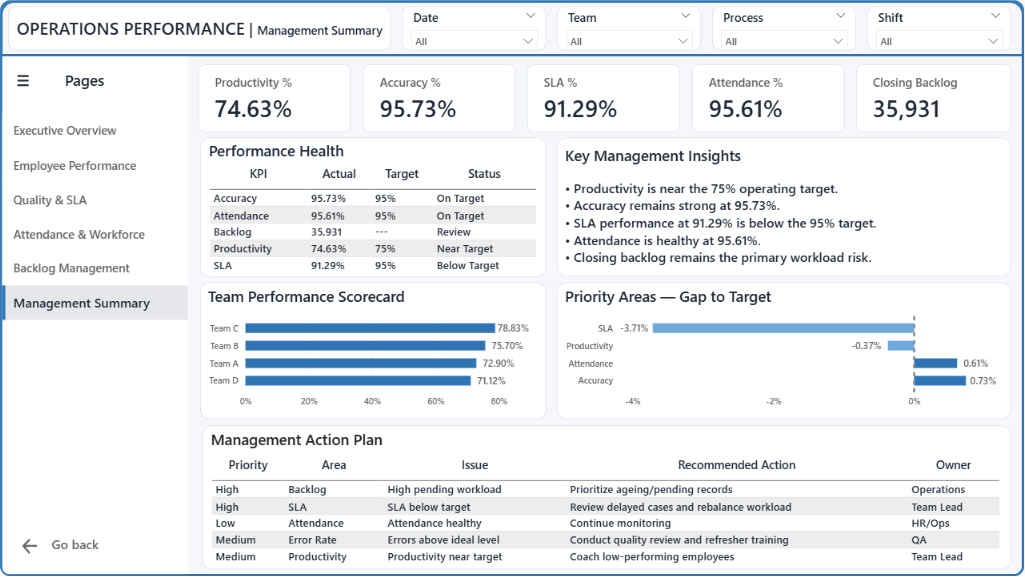

Layout of this report page (visuals, bound fields, positions):
{"tool":"powerbi","page":{"name":"Management Summary","canvas":[1280,720],"ordinal":5},"visuals":[{"type":"shape","box":[0,0,1280,720],"z":0},{"type":"shape","box":[0,0,1280,70],"z":1000},{"type":"textbox","box":[10,7.5,478.8,55],"z":2000},{"type":"cardVisual","fields":{"Data":["Measure.Closing Backlog"]},"box":[1070,80,193.8,85],"z":3000},{"type":"shape","box":[2,70,232,647.5],"z":4000},{"type":"cardVisual","fields":{"Data":["Measure.Attendance %"]},"box":[864.4,80,190,85],"z":5000},{"type":"cardVisual","fields":{"Data":["Measure.Productivity %"]},"box":[247.5,80,190,85],"z":6000},{"type":"cardVisual","fields":{"Data":["Measure.Accuracy %"]},"box":[453.1,80,190,85],"z":7000},{"type":"slicer","fields":{"Values":["DateTable.Date"]},"box":[502.5,7.5,180,55],"z":8000},{"type":"slicer","fields":{"Values":["dim_team.Team"]},"box":[696.2,7.5,180,55],"z":9000},{"type":"slicer","fields":{"Values":["dim_process.Process"]},"box":[890,7.5,180,55],"z":10000},{"type":"slicer","fields":{"Values":["dim_shift.Shift"]},"box":[1083.8,7.5,180,55],"z":11000},{"type":"pageNavigator","box":[2,141.2,232.5,261.2],"z":12000},{"type":"actionButton","box":[24,669,37.5,27.5],"z":13000},{"type":"textbox","box":[51.2,663.8,85,41.2],"z":14000},{"type":"textbox","box":[10,82,167.5,41.2],"z":15000},{"type":"cardVisual","fields":{"Data":["Measure.SLA %"]},"box":[658.8,80,190,85],"z":16000},{"type":"tableEx","title":"Performance Health","fields":{"Values":["Table.KPI","Table.Actual","Table.Target","Table.Status"]},"box":[250,171,432.5,174],"z":17000},{"type":"textbox","box":[696.2,171,567.5,173.8],"z":18000},{"type":"clusteredBarChart","title":"Team Performance Scorecard","fields":{"Category":["dim_team.Team"],"Y":["Measure.Productivity %"]},"box":[250,353,432.5,171.2],"z":19000},{"type":"clusteredBarChart","title":"Priority Areas — Gap to Target","fields":{"Category":["Priority KPI.KPI"],"Y":["Measure.Priority Gap %"]},"box":[696.2,352.5,567.5,171.2],"z":20000},{"type":"tableEx","title":"Management Action Plan","fields":{"Values":["Table (2).Priority","Table (2).Area","Table (2).Issue","Table (2).Recommended Action","Table (2).Owner"]},"box":[252.5,531.2,1011.2,180],"z":21000}]}

Visuals, with their boxes in screenshot pixels (x1, y1, x2, y2), scaled from the page's 1280x720 canvas onto the 1025x577 screenshot:
shape: left=0, top=0, right=1024, bottom=576
shape: left=0, top=0, right=1024, bottom=56
textbox: left=8, top=6, right=391, bottom=50
cardVisual - Measure.Closing Backlog: left=857, top=64, right=1012, bottom=132
shape: left=2, top=56, right=187, bottom=575
cardVisual - Measure.Attendance %: left=692, top=64, right=844, bottom=132
cardVisual - Measure.Productivity %: left=198, top=64, right=350, bottom=132
cardVisual - Measure.Accuracy %: left=363, top=64, right=515, bottom=132
slicer - DateTable.Date: left=402, top=6, right=547, bottom=50
slicer - dim_team.Team: left=558, top=6, right=702, bottom=50
slicer - dim_process.Process: left=713, top=6, right=857, bottom=50
slicer - dim_shift.Shift: left=868, top=6, right=1012, bottom=50
pageNavigator: left=2, top=113, right=188, bottom=322
actionButton: left=19, top=536, right=49, bottom=558
textbox: left=41, top=532, right=109, bottom=565
textbox: left=8, top=66, right=142, bottom=99
cardVisual - Measure.SLA %: left=528, top=64, right=680, bottom=132
"Performance Health" tableEx: left=200, top=137, right=547, bottom=276
textbox: left=558, top=137, right=1012, bottom=276
"Team Performance Scorecard" clusteredBarChart: left=200, top=283, right=547, bottom=420
"Priority Areas — Gap to Target" clusteredBarChart: left=558, top=282, right=1012, bottom=420
"Management Action Plan" tableEx: left=202, top=426, right=1012, bottom=570
